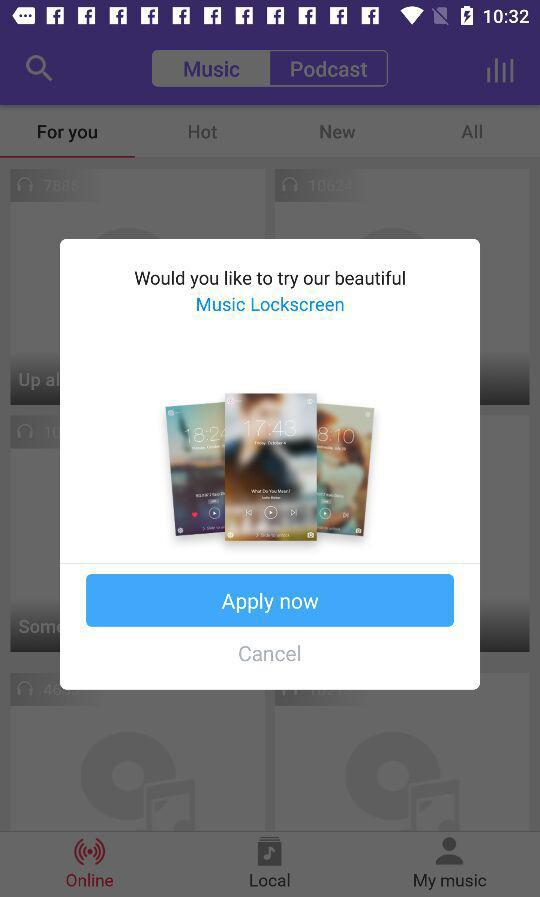Icon: (435, 837, 464, 865), (485, 58, 515, 85), (258, 836, 283, 867), (26, 55, 53, 83)
Image: (165, 392, 375, 543), (74, 838, 107, 867)
Modal: (60, 239, 481, 691)
Text: (134, 270, 410, 290), (196, 296, 346, 313), (413, 873, 488, 891), (238, 644, 302, 663), (37, 125, 98, 144), (67, 872, 114, 887), (249, 872, 291, 887), (319, 125, 356, 140), (190, 125, 219, 140), (462, 124, 483, 140)
TextButton: (86, 574, 455, 628), (270, 50, 389, 89), (151, 51, 271, 89)
UpperTaskBar: (1, 1, 540, 33)
